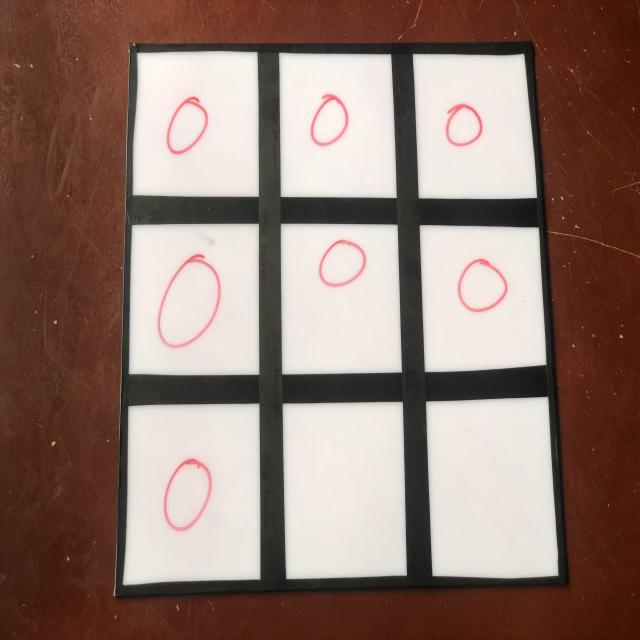null: (425, 394, 560, 578), (282, 404, 410, 581)
o: (152, 254, 223, 352), (159, 85, 220, 166), (158, 453, 215, 536), (308, 86, 357, 160), (455, 254, 510, 314), (314, 238, 369, 291), (444, 99, 487, 157)
table: (98, 32, 563, 593)
